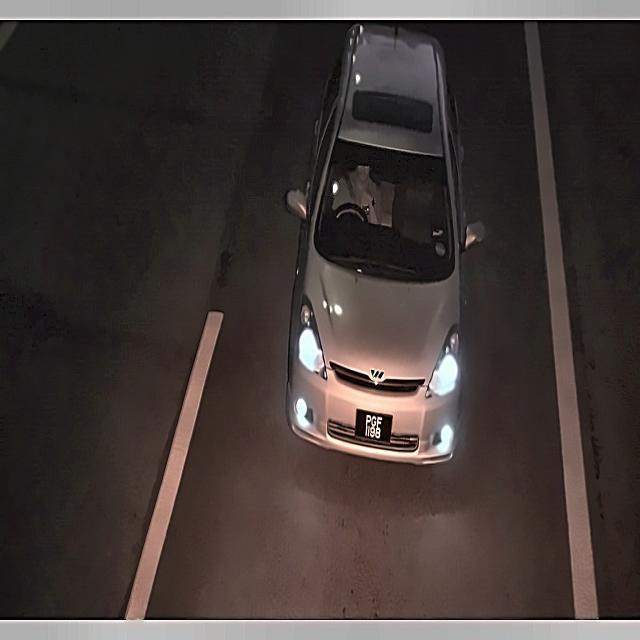car: (352, 403, 395, 448)
